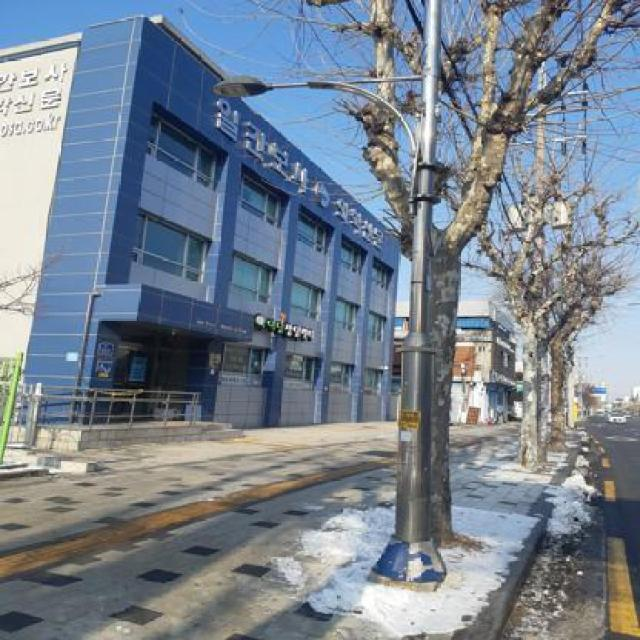pole: (376, 66, 456, 592)
